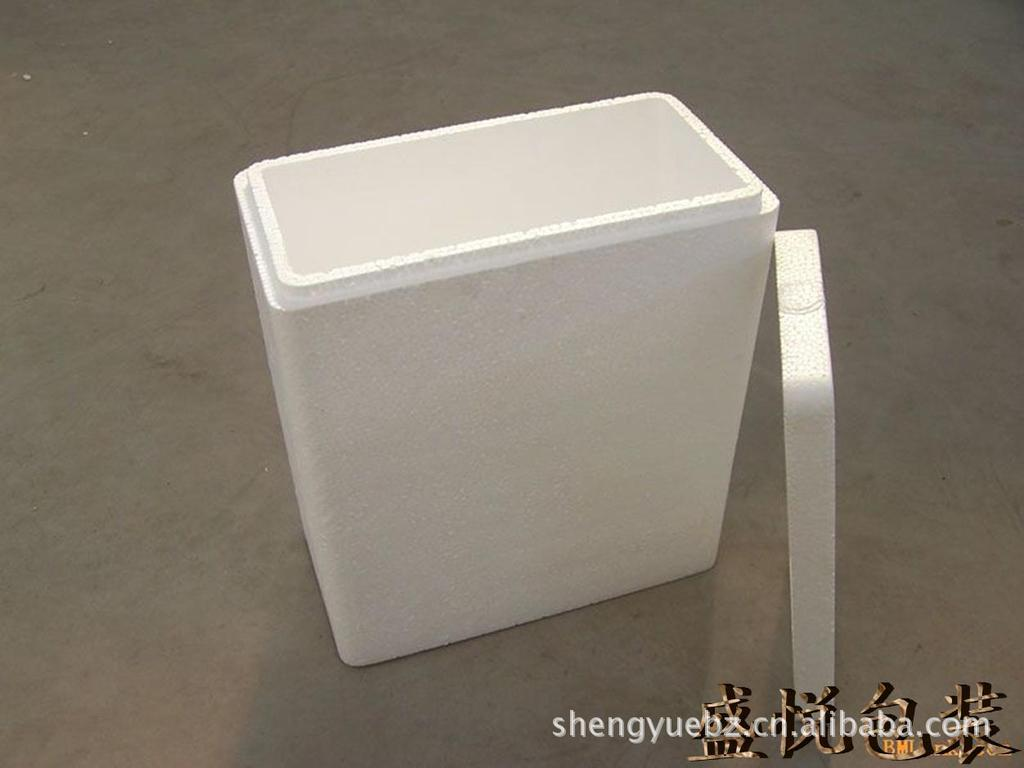Boxes: (235, 94, 835, 692)
